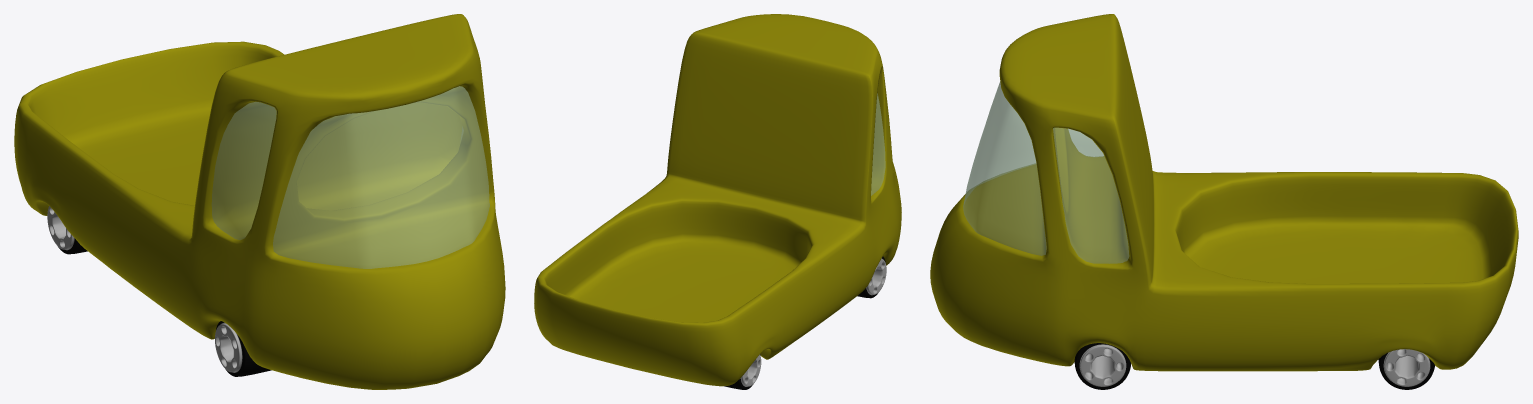
The model's file is TOyCar.fbx.
3 views of the same model, side by side, from view 1: azimuth 30°, elevation 25°; view 2: azimuth 150°, elevation 25°; view 3: azimuth 270°, elevation 25° (orthographic). The views are drawn at different scales.
Parts seen in each view (by area): view 1: pCylinder4; view 2: pCylinder4; view 3: pCylinder4.
Boxes of the visible parts, x1=… form: pCylinder4: x1=14, y1=14, x2=505, y2=389; pCylinder4: x1=534, y1=14, x2=901, y2=389; pCylinder4: x1=930, y1=14, x2=1518, y2=389.
Size of the model in its own units: 9.6 by 10.08 by 19.5.
